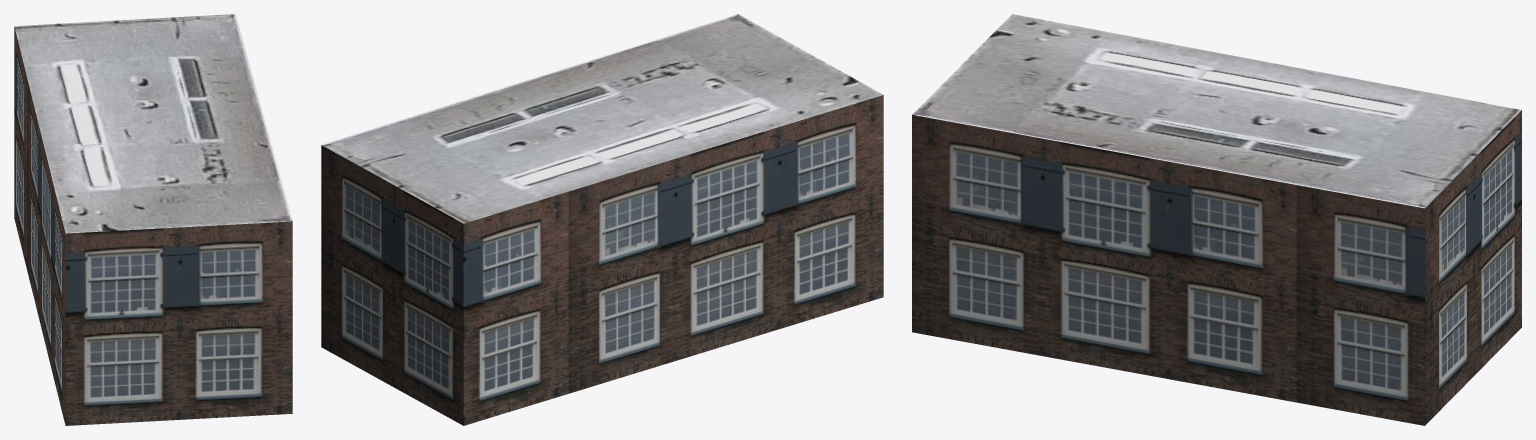
Rendered from EduTex__9.fbx.
The picture shows the model from 3 angles, left to right: view 1: azimuth 30°, elevation 25°; view 2: azimuth 150°, elevation 25°; view 3: azimuth 270°, elevation 25°; orthographic projection. The views are drawn at different scales.
Visible parts, largest first — view 1: CityEngineMaterial_1_m, CityEngineMaterial_11_m; view 2: CityEngineMaterial_1_m, CityEngineMaterial_11_m; view 3: CityEngineMaterial_1_m, CityEngineMaterial_11_m.
Boxes of the visible parts, bbox=[...] form: CityEngineMaterial_1_m: bbox=[14, 27, 292, 425]; CityEngineMaterial_11_m: bbox=[14, 14, 292, 233]; CityEngineMaterial_1_m: bbox=[321, 95, 883, 425]; CityEngineMaterial_11_m: bbox=[322, 14, 882, 223]; CityEngineMaterial_1_m: bbox=[912, 110, 1521, 425]; CityEngineMaterial_11_m: bbox=[912, 14, 1521, 208].
Bounding box in the file's own units: 11.5 × 6 × 15.24.
2 materials, 2 textured.
